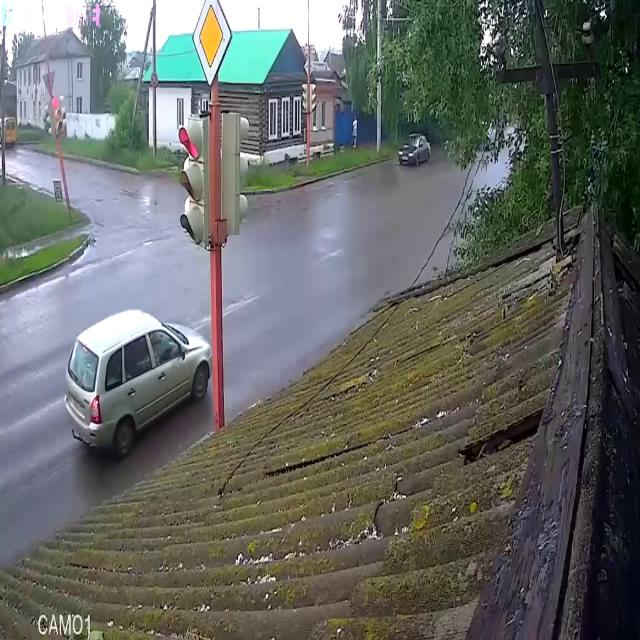noaccident: (21, 90, 497, 442)
